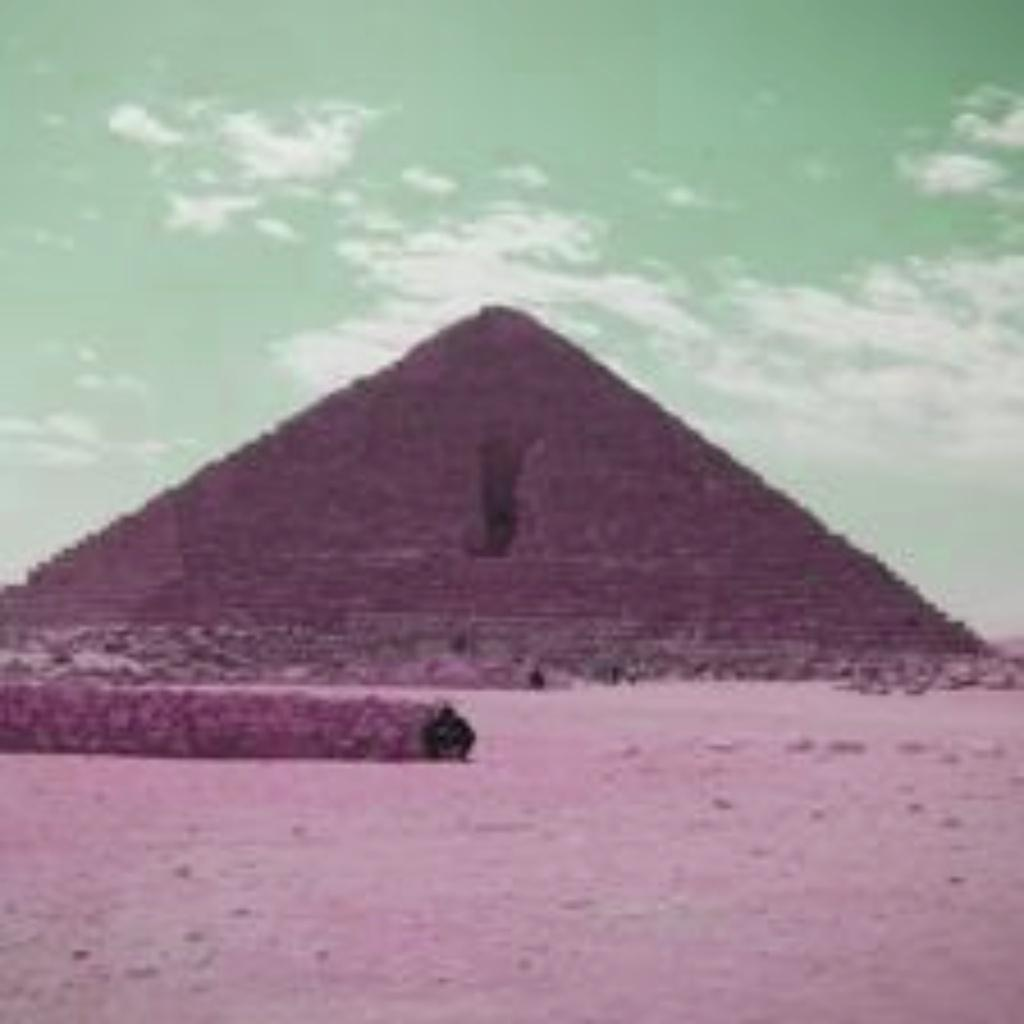Great Pyramids of Giza: (0, 297, 1010, 690)
